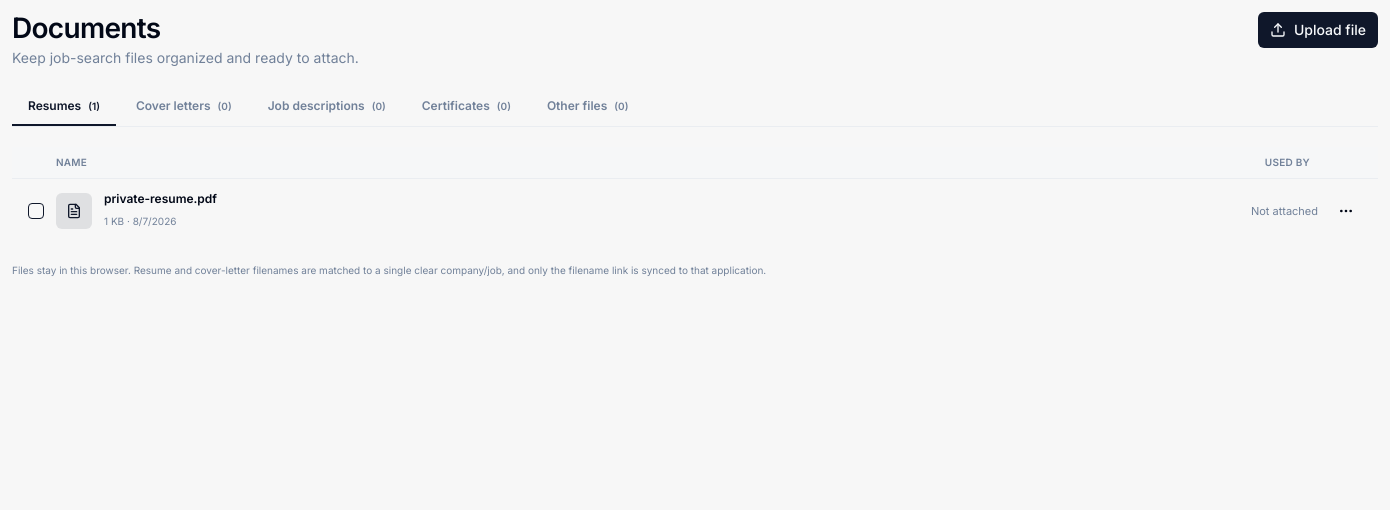
Scenario: Documents › cleans up a retained legacy copy after a later scoped update succeeds
Press the mouse on the button named "Actions for private-resume.pdf" at (1346,211), box [1330, 195, 1362, 227]
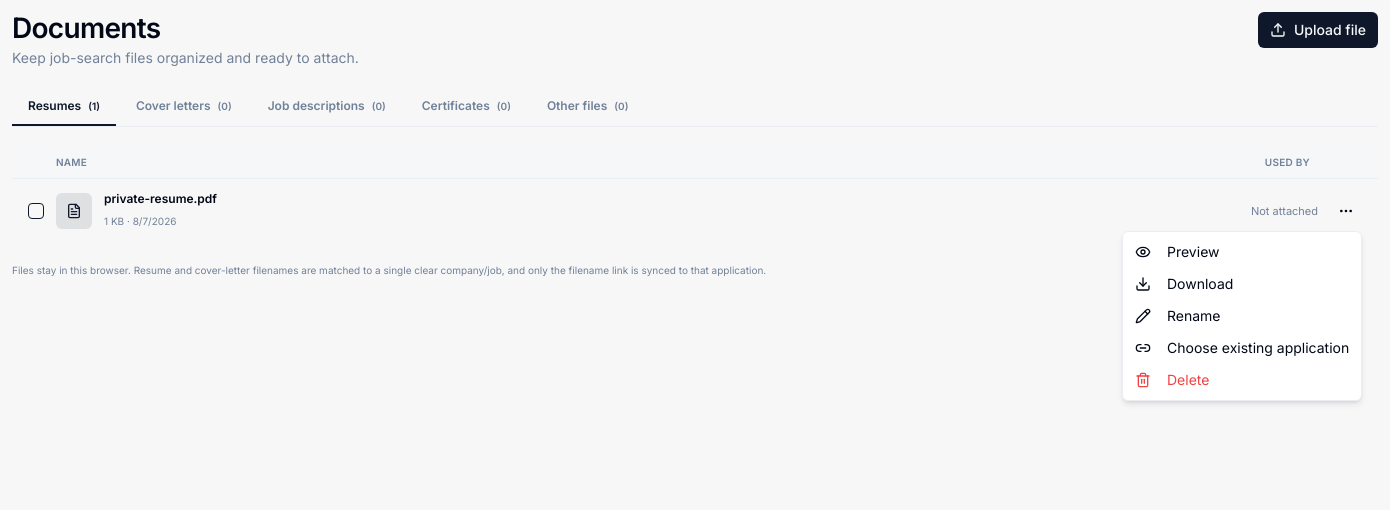
Click the menu item "Delete".
click(1172, 380)  # box [1135, 371, 1209, 388]
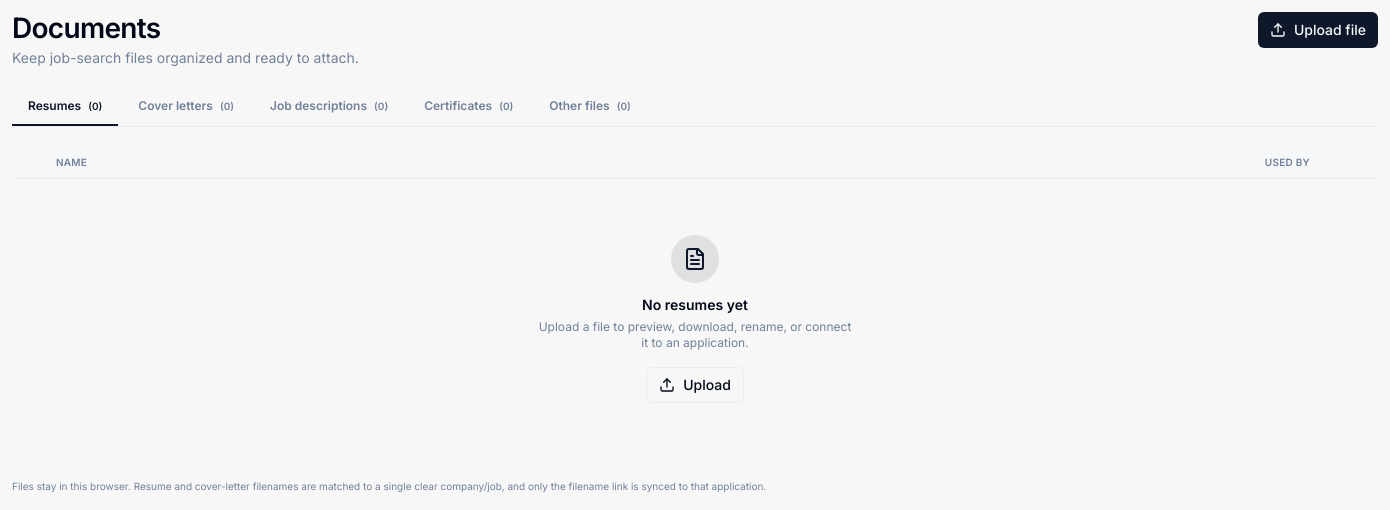
Check: the text "private-resume.pdf" is gone
